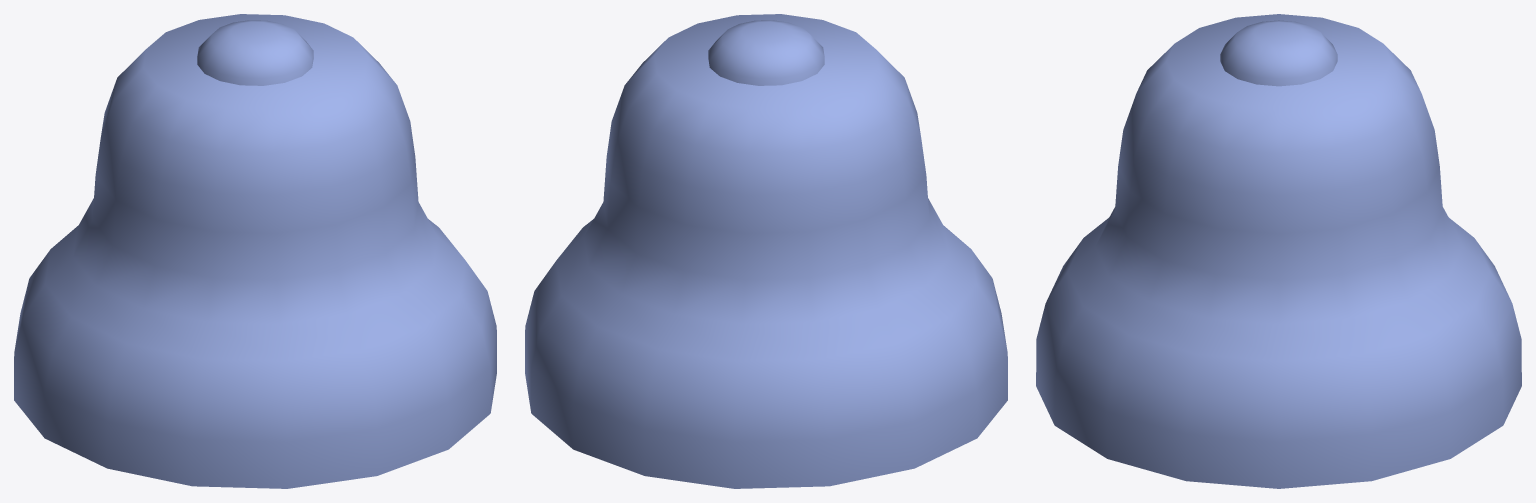
The model's file is Bell_Bucket.glb.
3 views of the same model, side by side, from view 1: azimuth 30°, elevation 25°; view 2: azimuth 150°, elevation 25°; view 3: azimuth 270°, elevation 25° (orthographic).
Parts seen in each view (by area): view 1: Cylinder.019; view 2: Cylinder.019; view 3: Cylinder.019.
Part boxes in pixels (x1,y1,x2,y2): Cylinder.019: (14, 14, 496, 488); Cylinder.019: (525, 14, 1007, 488); Cylinder.019: (1036, 14, 1521, 488).
Bounding box in the file's own units: 3.45 × 2.77 × 3.45.
